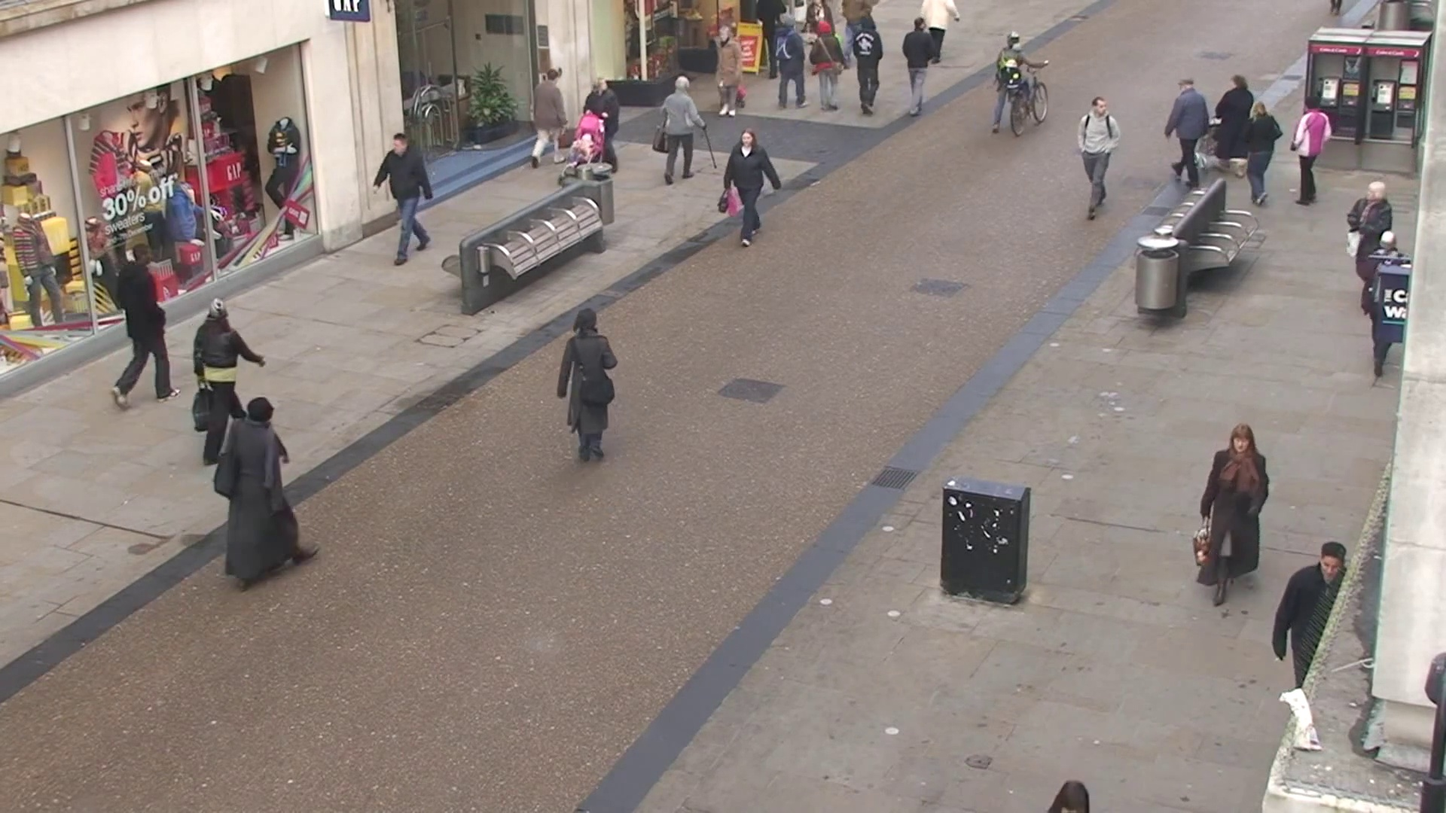person: (212, 397, 301, 588), (1269, 541, 1349, 750), (101, 239, 178, 405), (1195, 424, 1269, 589), (974, 8, 1056, 153), (191, 301, 267, 453), (557, 309, 619, 464), (561, 58, 628, 190), (374, 129, 435, 266), (718, 127, 781, 246), (1347, 179, 1396, 311), (1213, 72, 1259, 204), (1076, 94, 1122, 220), (657, 74, 709, 183), (532, 65, 581, 166), (1164, 79, 1209, 187), (1243, 100, 1283, 207), (1292, 101, 1332, 203), (901, 16, 943, 112), (848, 5, 884, 115), (774, 15, 808, 108), (1047, 779, 1089, 812)
